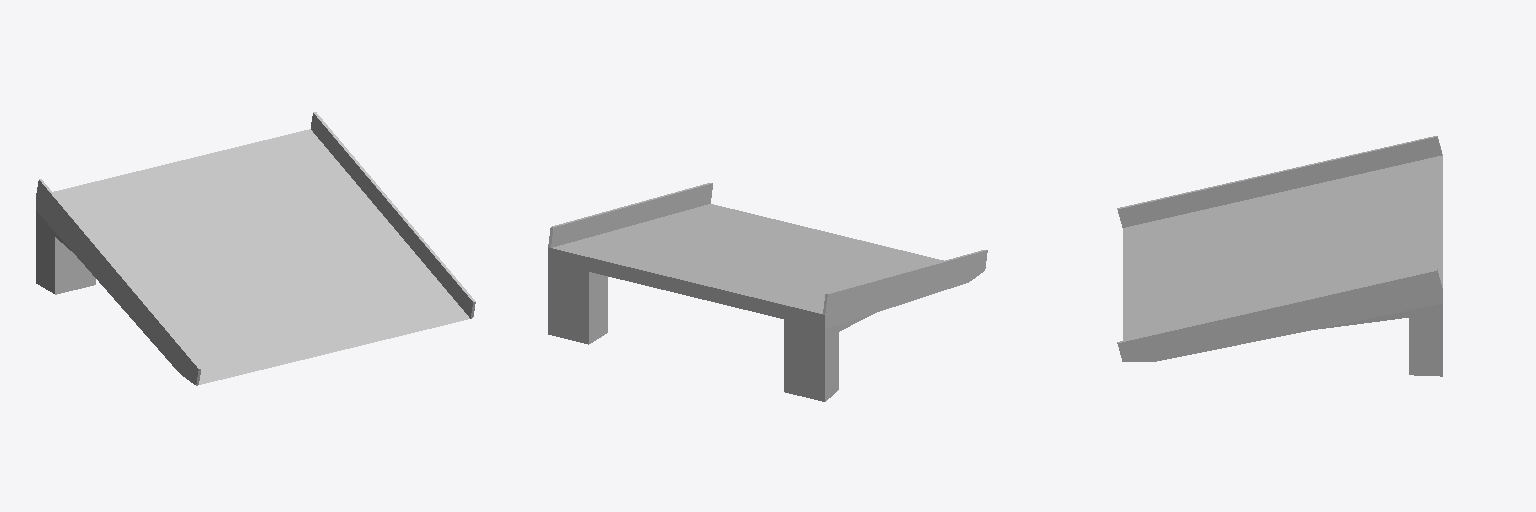
Rendered from sd_prop_ramp_straight.obj.
3 views of the same model, side by side, from view 1: azimuth 30°, elevation 25°; view 2: azimuth 150°, elevation 25°; view 3: azimuth 270°, elevation 25° (orthographic).
Parts seen in each view (by area): view 1: Ramp; view 2: Ramp; view 3: Ramp.
Part boxes in pixels (bbox=[...]): Ramp: bbox=[36, 112, 475, 385]; Ramp: bbox=[548, 183, 987, 401]; Ramp: bbox=[1117, 136, 1442, 376].
Size of the model in its own units: 20 by 7.31 by 20.32.